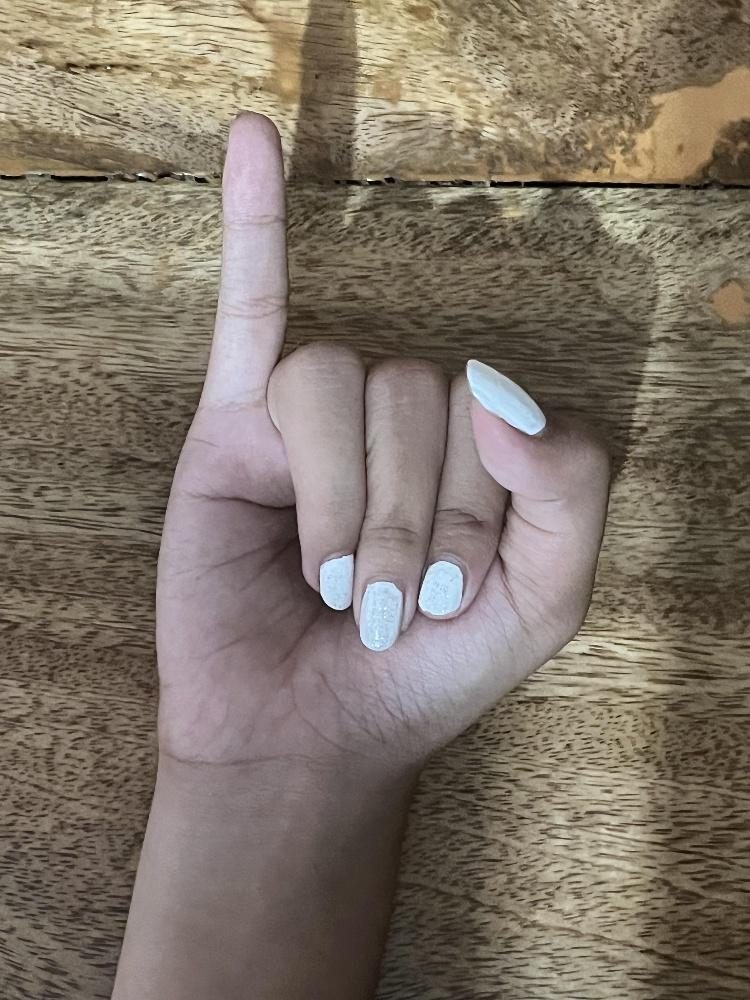i: (151, 108, 613, 763)
